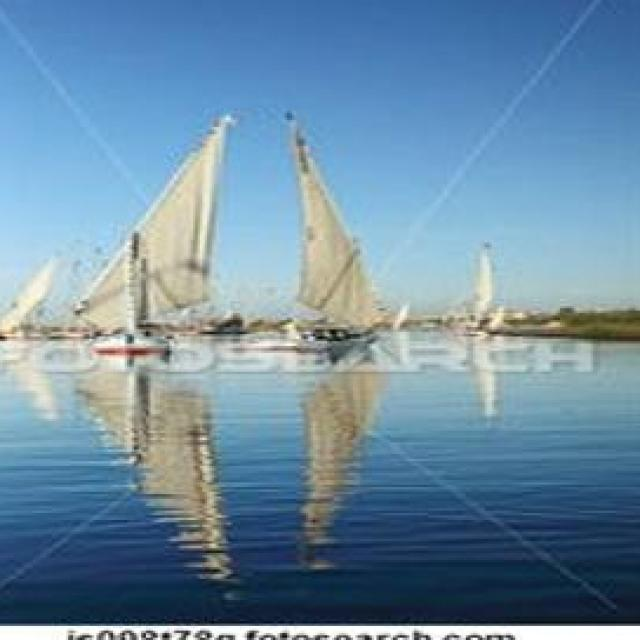sailboat: (57, 132, 236, 370), (265, 115, 402, 347)
